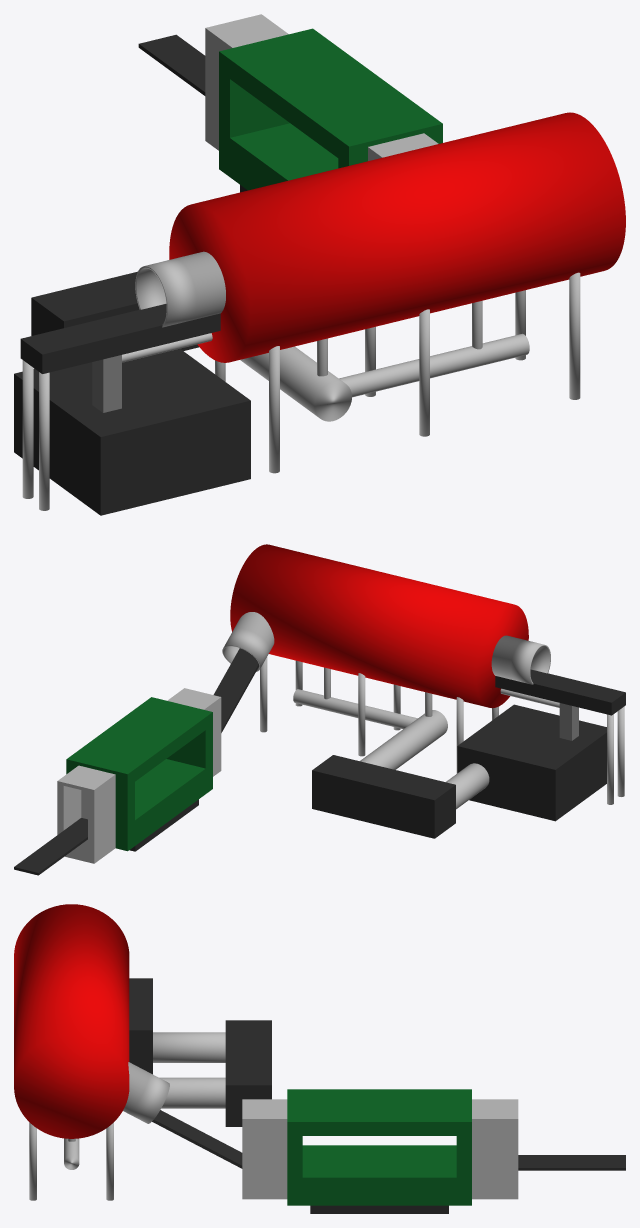
The model's file is SpacePort2.fbx.
The picture shows the model from 3 angles, top to bottom: view 1: azimuth 30°, elevation 25°; view 2: azimuth 150°, elevation 25°; view 3: azimuth 270°, elevation 25°; orthographic projection. The views are drawn at different scales.
Parts seen in each view (by area): view 1: Processing Station, Inspection Station, Cube.001, Cube, ProcessingIntake.001, Cube.003, Cylinder.004, Cylinder.002, PackagingToInspection, ProcessingStand5.001, Cube.002, ProcessingStand5.002 (+4 smaller); view 2: Processing Station, Inspection Station, Cube.001, Cube.003, Cube, Cylinder.002, ProcessingIntake.001, ProcessingIntake, PackagingToInspection, InspectionToProcessing, Cylinder.004, Cylinder.001 (+5 smaller); view 3: Inspection Station, Processing Station, Cube.003, Cylinder.001, Cube.001, Cylinder.002, ProcessingIntake, PackagingToInspection, InspectionToProcessing, Stand1, ProcessingStand2, ProcessingStand1 (+1 smaller).
Boxes of the visible parts, bbox=[...] form: Processing Station: bbox=[169, 112, 625, 362]; Inspection Station: bbox=[205, 14, 442, 190]; Cube.001: bbox=[14, 348, 250, 515]; Cube: bbox=[20, 304, 220, 373]; ProcessingIntake.001: bbox=[135, 251, 225, 327]; Cube.003: bbox=[31, 271, 199, 350]; Cylinder.004: bbox=[339, 333, 529, 397]; Cylinder.002: bbox=[240, 346, 351, 421]; PackagingToInspection: bbox=[138, 34, 205, 95]; ProcessingStand5.001: bbox=[22, 360, 33, 498]; Cube.002: bbox=[92, 355, 121, 412]; ProcessingStand5.002: bbox=[39, 372, 49, 510]; Processing Station: bbox=[230, 544, 528, 708]; Inspection Station: bbox=[57, 688, 221, 863]; Cube.001: bbox=[457, 704, 606, 821]; Cube.003: bbox=[312, 755, 455, 838]; Cube: bbox=[495, 669, 625, 715]; Cylinder.002: bbox=[360, 710, 447, 769]; ProcessingIntake.001: bbox=[491, 635, 550, 684]; ProcessingIntake: bbox=[222, 612, 274, 671]; PackagingToInspection: bbox=[14, 818, 87, 875]; InspectionToProcessing: bbox=[213, 648, 259, 732]; Cylinder.004: bbox=[293, 689, 417, 728]; Cylinder.001: bbox=[446, 763, 489, 809]; Inspection Station: bbox=[242, 1089, 518, 1205]; Processing Station: bbox=[14, 904, 129, 1138]; Cube.003: bbox=[225, 1020, 271, 1126]; Cylinder.001: bbox=[153, 1032, 225, 1062]; Cube.001: bbox=[129, 978, 152, 1074]; Cylinder.002: bbox=[159, 1077, 225, 1108]; ProcessingIntake: bbox=[123, 1062, 169, 1123]; PackagingToInspection: bbox=[518, 1155, 625, 1170]; InspectionToProcessing: bbox=[152, 1110, 242, 1168]; Stand1: bbox=[310, 1205, 448, 1213]; ProcessingStand2: bbox=[29, 1122, 36, 1200]; ProcessingStand1: bbox=[106, 1122, 113, 1200].
Size of the model in its own units: 6000 by 2550 by 7950.
